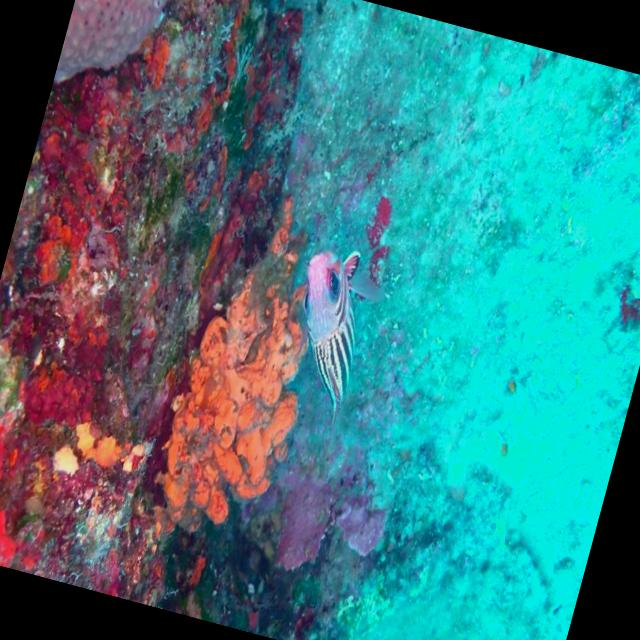Asker Baligi: (255, 217, 400, 444)
